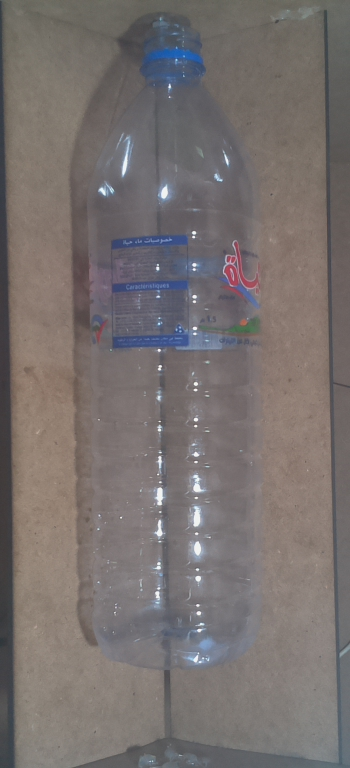Bouteille_1.5L: (72, 14, 279, 685)
